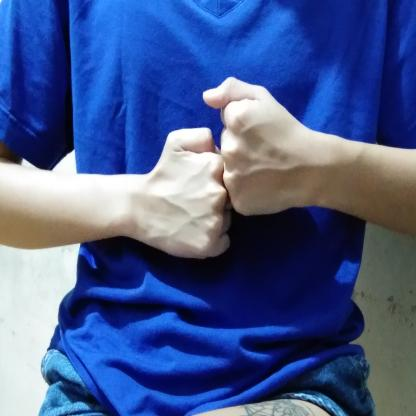brother: (105, 72, 321, 271)
